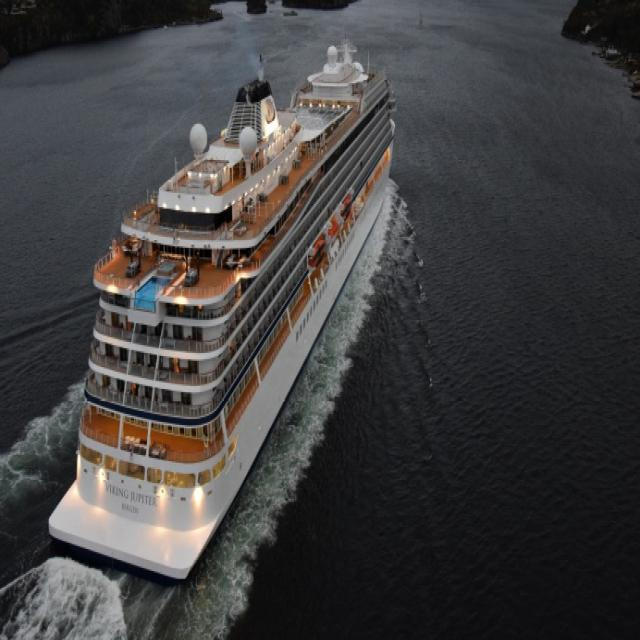cruises: (50, 6, 407, 580)
